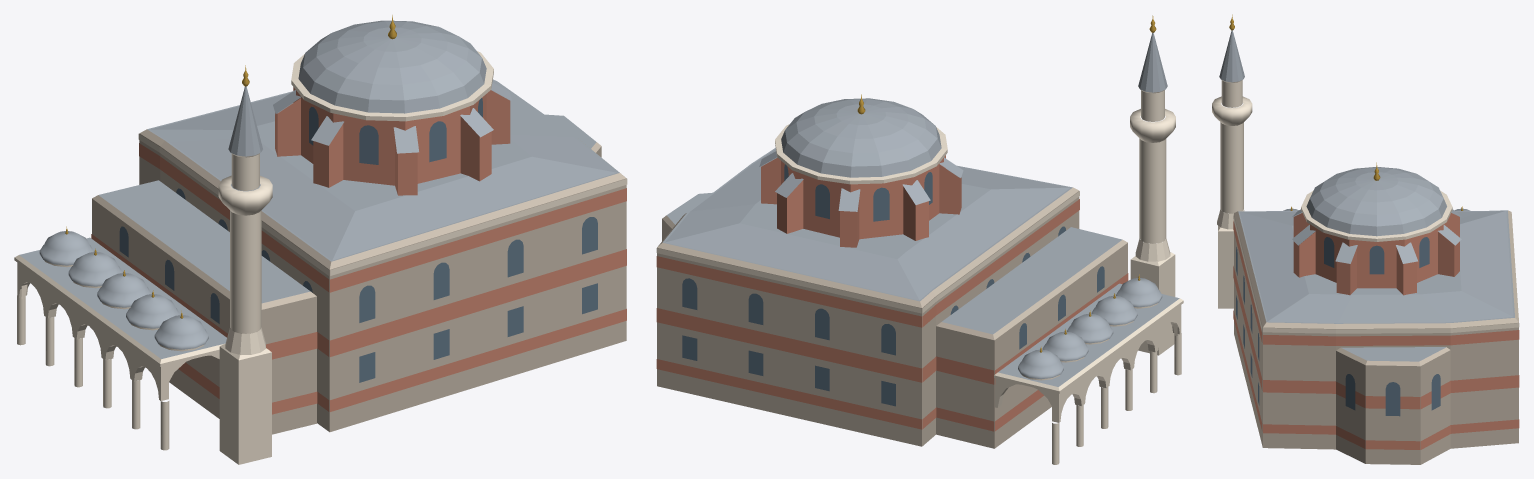
File: istanbul-little-hagia-sophia.glb
3 renders of one model, left to right at view 1: azimuth 30°, elevation 25°; view 2: azimuth 150°, elevation 25°; view 3: azimuth 270°, elevation 25°, orthographic. The views are drawn at different scales.
Parts seen in each view (by area): view 1: Little Hagia Sophia; view 2: Little Hagia Sophia; view 3: Little Hagia Sophia.
Part boxes in pixels (x1,y1,x2,y2): Little Hagia Sophia: (14,15,627,464); Little Hagia Sophia: (656,15,1183,464); Little Hagia Sophia: (1212,14,1519,464).
Size of the model in its own units: 44.64 by 32.6 by 31.48.
